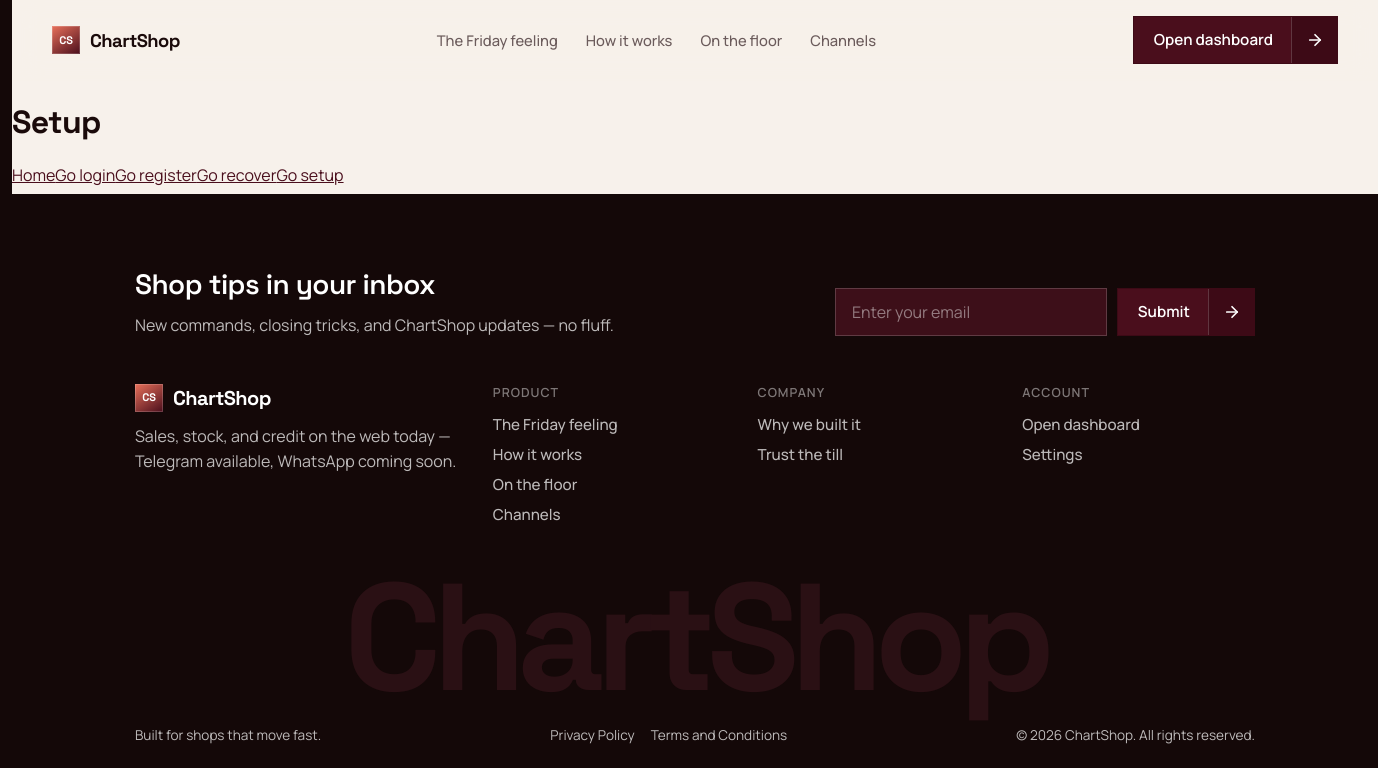
Test: scroll behaviour › SiteLayout › resets window scroll when navigating /setup → next marketing route
Click the link "Home" at coordinates (34, 175), box [12,164,55,186]
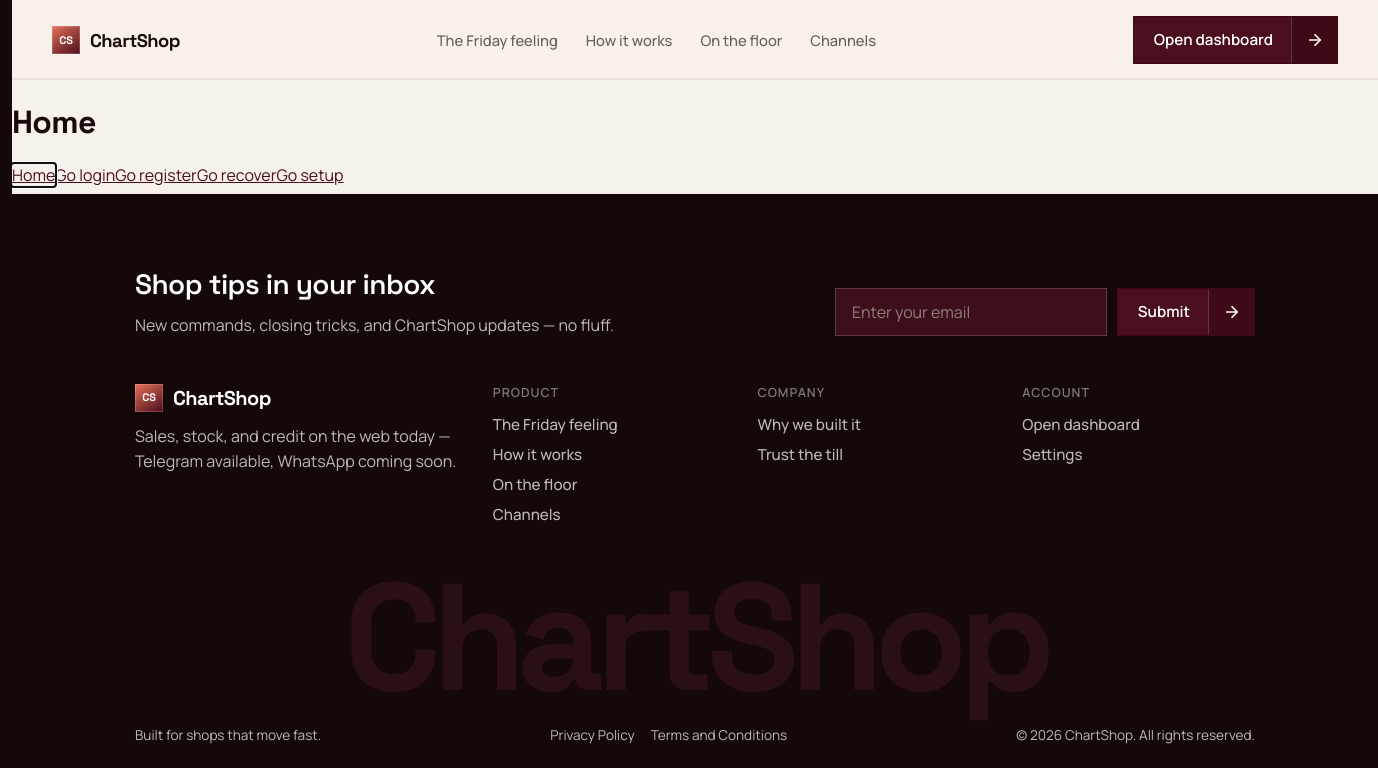
Check: the heading "Home" is shown, box [12,102,96,142]
